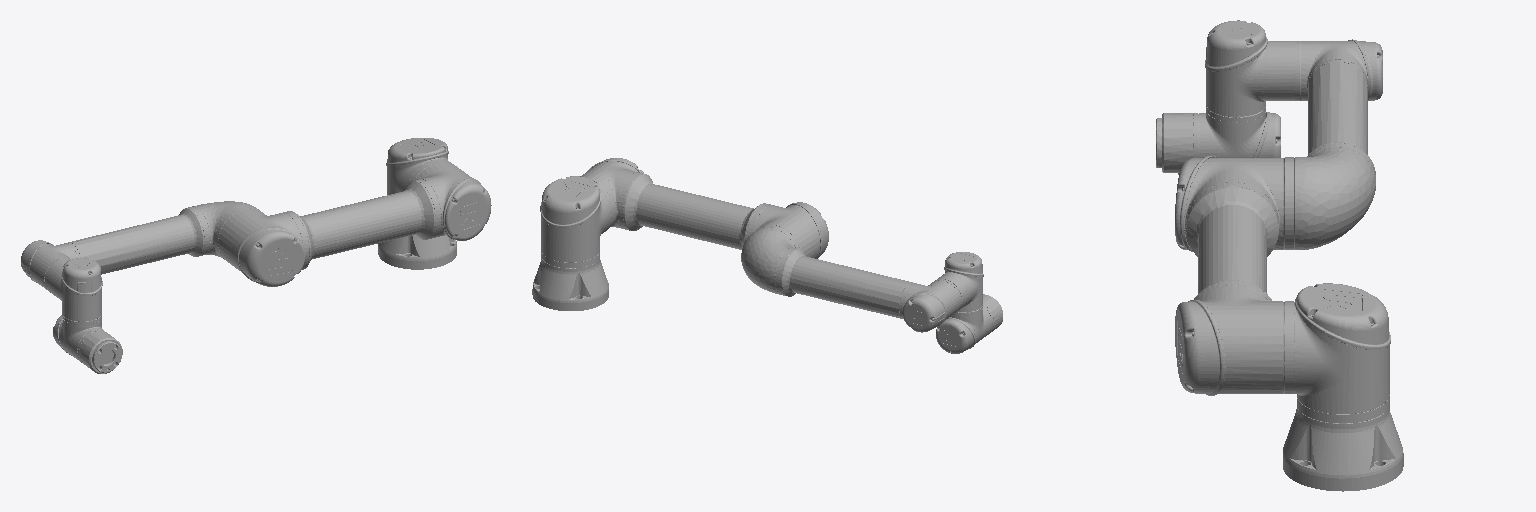
robot.urdf — ur5e:
<?xml version="1.0" ?>
<!-- =================================================================================== -->
<!-- |    This document was autogenerated by xacro from ur5e.xacro                     | -->
<!-- |    EDITING THIS FILE BY HAND IS NOT RECOMMENDED                                 | -->
<!-- =================================================================================== -->
<robot name="ur5e" xmlns:xacro="http://ros.org/wiki/xacro">
  <gazebo>
    <plugin filename="libgazebo_ros_control.so" name="ros_control">
      <legacyModeNS>true</legacyModeNS>
      <!--robotNamespace>/</robotNamespace-->
      <!--robotSimType>gazebo_ros_control/DefaultRobotHWSim</robotSimType-->
    </plugin>
    <!--
    <plugin name="gazebo_ros_power_monitor_controller" filename="libgazebo_ros_power_monitor.so">
      <alwaysOn>true</alwaysOn>
      <updateRate>1.0</updateRate>
      <timeout>5</timeout>
      <powerStateTopic>power_state</powerStateTopic>
      <powerStateRate>10.0</powerStateRate>
      <fullChargeCapacity>87.78</fullChargeCapacity>     
      <dischargeRate>-474</dischargeRate>
      <chargeRate>525</chargeRate>
      <dischargeVoltage>15.52</dischargeVoltage>
      <chargeVoltage>16.41</chargeVoltage>
    </plugin>
-->
  </gazebo>
  <!--property name="shoulder_height" value="0.089159" /-->
  <!--property name="shoulder_offset" value="0.13585" /-->
  <!-- shoulder_offset - elbow_offset + wrist_1_length = 0.10915 -->
  <!--property name="upper_arm_length" value="0.42500" /-->
  <!--property name="elbow_offset" value="0.1197" /-->
  <!-- CAD measured -->
  <!--property name="forearm_length" value="0.39225" /-->
  <!--property name="wrist_1_length" value="0.093" /-->
  <!-- CAD measured -->
  <!--property name="wrist_2_length" value="0.09465" /-->
  <!-- In CAD this distance is 0.930, but in the spec it is 0.09465 -->
  <!--property name="wrist_3_length" value="0.0823" /-->
  <!-- manually measured -->
  <link name="base_link">
    <visual>
      <geometry>
        <mesh filename="meshes/ur5e/visual/base.obj"/>
      </geometry>
      <material name="LightGrey">
        <color rgba="0.7 0.7 0.7 1.0"/>
      </material>
    </visual>
    <collision>
      <geometry>
        <mesh filename="meshes/ur5e/collision/base.stl"/>
      </geometry>
    </collision>
    <inertial>
      <mass value="4.0"/>
      <origin rpy="0 0 0" xyz="0.0 0.0 0.0"/>
      <inertia ixx="0.00443333156" ixy="0.0" ixz="0.0" iyy="0.00443333156" iyz="0.0" izz="0.0072"/>
    </inertial>
  </link>
  <joint name="shoulder_pan_joint" type="revolute">
    <parent link="base_link"/>
    <child link="shoulder_link"/>
    <origin rpy="0.0 0.0 0.0" xyz="0.0 0.0 0.163"/>
    <axis xyz="0 0 1"/>
    <limit effort="150.0" lower="-3.14159265359" upper="3.14159265359" velocity="3.14"/>
    <dynamics damping="0.0" friction="0.0"/>
  </joint>
  <link name="shoulder_link">
    <visual>
      <geometry>
        <mesh filename="meshes/ur5e/visual/shoulder.obj"/>
      </geometry>
      <material name="LightGrey">
        <color rgba="0.7 0.7 0.7 1.0"/>
      </material>
    </visual>
    <collision>
      <geometry>
        <mesh filename="meshes/ur5e/collision/shoulder.stl"/>
      </geometry>
    </collision>
    <inertial>
      <mass value="3.7"/>
      <origin rpy="0 0 0" xyz="0.0 0.0 0.0"/>
      <inertia ixx="0.010267495893" ixy="0.0" ixz="0.0" iyy="0.010267495893" iyz="0.0" izz="0.00666"/>
    </inertial>
  </link>
  <joint name="shoulder_lift_joint" type="revolute">
    <parent link="shoulder_link"/>
    <child link="upper_arm_link"/>
    <origin rpy="0.0 1.57079632679 0.0" xyz="0.0 0.138 0.0"/>
    <axis xyz="0 1 0"/>
    <limit effort="150.0" lower="-3.14159265359" upper="3.14159265359" velocity="3.14"/>
    <dynamics damping="0.0" friction="0.0"/>
  </joint>
  <link name="upper_arm_link">
    <visual>
      <geometry>
        <mesh filename="meshes/ur5e/visual/upperarm.obj"/>
      </geometry>
      <material name="LightGrey">
        <color rgba="0.7 0.7 0.7 1.0"/>
      </material>
    </visual>
    <collision>
      <geometry>
        <mesh filename="meshes/ur5e/collision/upperarm.stl"/>
      </geometry>
    </collision>
    <inertial>
      <mass value="8.393"/>
      <origin rpy="0 0 0" xyz="0.0 0.0 0.2125"/>
      <inertia ixx="0.133885781862" ixy="0.0" ixz="0.0" iyy="0.133885781862" iyz="0.0" izz="0.0151074"/>
    </inertial>
  </link>
  <joint name="elbow_joint" type="revolute">
    <parent link="upper_arm_link"/>
    <child link="forearm_link"/>
    <origin rpy="0.0 0.0 0.0" xyz="0.0 -0.131 0.425"/>
    <axis xyz="0 1 0"/>
    <limit effort="150.0" lower="-3.14159265359" upper="3.14159265359" velocity="3.14"/>
    <dynamics damping="0.0" friction="0.0"/>
  </joint>
  <link name="forearm_link">
    <visual>
      <geometry>
        <mesh filename="meshes/ur5e/visual/forearm.obj"/>
      </geometry>
      <material name="LightGrey">
        <color rgba="0.7 0.7 0.7 1.0"/>
      </material>
    </visual>
    <collision>
      <geometry>
        <mesh filename="meshes/ur5e/collision/forearm.stl"/>
      </geometry>
    </collision>
    <inertial>
      <mass value="2.275"/>
      <origin rpy="0 0 0" xyz="0.0 0.0 0.196"/>
      <inertia ixx="0.0311796208615" ixy="0.0" ixz="0.0" iyy="0.0311796208615" iyz="0.0" izz="0.004095"/>
    </inertial>
  </link>
  <joint name="wrist_1_joint" type="revolute">
    <parent link="forearm_link"/>
    <child link="wrist_1_link"/>
    <origin rpy="0.0 1.57079632679 0.0" xyz="0.0 0.0 0.392"/>
    <axis xyz="0 1 0"/>
    <limit effort="28.0" lower="-3.14159265359" upper="3.14159265359" velocity="6.28"/>
    <dynamics damping="0.0" friction="0.0"/>
  </joint>
  <link name="wrist_1_link">
    <visual>
      <geometry>
        <mesh filename="meshes/ur5e/visual/wrist1.obj"/>
      </geometry>
      <material name="LightGrey">
        <color rgba="0.7 0.7 0.7 1.0"/>
      </material>
    </visual>
    <collision>
      <geometry>
        <mesh filename="meshes/ur5e/collision/wrist1.stl"/>
      </geometry>
    </collision>
    <inertial>
      <mass value="1.219"/>
      <origin rpy="0 0 0" xyz="0.0 0.127 0.0"/>
      <inertia ixx="0.00255989897604" ixy="0.0" ixz="0.0" iyy="0.00255989897604" iyz="0.0" izz="0.0021942"/>
    </inertial>
  </link>
  <joint name="wrist_2_joint" type="revolute">
    <parent link="wrist_1_link"/>
    <child link="wrist_2_link"/>
    <origin rpy="0.0 0.0 0.0" xyz="0.0 0.127 0.0"/>
    <axis xyz="0 0 1"/>
    <limit effort="28.0" lower="-3.14159265359" upper="3.14159265359" velocity="6.28"/>
    <dynamics damping="0.0" friction="0.0"/>
  </joint>
  <link name="wrist_2_link">
    <visual>
      <geometry>
        <mesh filename="meshes/ur5e/visual/wrist2.obj"/>
      </geometry>
      <material name="LightGrey">
        <color rgba="0.7 0.7 0.7 1.0"/>
      </material>
    </visual>
    <collision>
      <geometry>
        <mesh filename="meshes/ur5e/collision/wrist2.stl"/>
      </geometry>
    </collision>
    <inertial>
      <mass value="1.219"/>
      <origin rpy="0 0 0" xyz="0.0 0.0 0.1"/>
      <inertia ixx="0.00255989897604" ixy="0.0" ixz="0.0" iyy="0.00255989897604" iyz="0.0" izz="0.0021942"/>
    </inertial>
  </link>
  <joint name="wrist_3_joint" type="revolute">
    <parent link="wrist_2_link"/>
    <child link="wrist_3_link"/>
    <origin rpy="0.0 0.0 0.0" xyz="0.0 0.0 0.1"/>
    <axis xyz="0 1 0"/>
    <limit effort="28.0" lower="-3.14159265359" upper="3.14159265359" velocity="6.28"/>
    <dynamics damping="0.0" friction="0.0"/>
  </joint>
  <link name="wrist_3_link">
    <visual>
      <geometry>
        <mesh filename="meshes/ur5e/visual/wrist3.obj"/>
      </geometry>
      <material name="LightGrey">
        <color rgba="0.7 0.7 0.7 1.0"/>
      </material>
    </visual>
    <collision>
      <geometry>
        <mesh filename="meshes/ur5e/collision/wrist3.stl"/>
      </geometry>
    </collision>
    <inertial>
      <mass value="0.1879"/>
      <origin rpy="1.57079632679 0 0" xyz="0.0 0.0771 0.0"/>
      <inertia ixx="9.89041005217e-05" ixy="0.0" ixz="0.0" iyy="9.89041005217e-05" iyz="0.0" izz="0.0001321171875"/>
    </inertial>
  </link>
  <joint name="ee_fixed_joint" type="fixed">
    <parent link="wrist_3_link"/>
    <child link="ee_link"/>
    <origin rpy="0.0 0.0 1.57079632679" xyz="0.0 0.1 0.0"/>
  </joint>
  <link name="ee_link">
    <collision>
      <geometry>
        <box size="0.01 0.01 0.01"/>
      </geometry>
      <origin rpy="0 0 0" xyz="-0.01 0 0"/>
    </collision>
    <inertial>
      <mass value="0"/>
      <origin rpy="0 0 0" xyz="0.0 0.0 0.0"/>
      <inertia ixx="0.0" ixy="0.0" ixz="0.0" iyy="0.0" iyz="0.0" izz="0.0"/>
    </inertial>
  </link>
  <transmission name="shoulder_pan_trans">
    <type>transmission_interface/SimpleTransmission</type>
    <joint name="shoulder_pan_joint">
      <hardwareInterface>hardware_interface/PositionJointInterface</hardwareInterface>
    </joint>
    <actuator name="shoulder_pan_motor">
      <mechanicalReduction>1</mechanicalReduction>
    </actuator>
  </transmission>
  <transmission name="shoulder_lift_trans">
    <type>transmission_interface/SimpleTransmission</type>
    <joint name="shoulder_lift_joint">
      <hardwareInterface>hardware_interface/PositionJointInterface</hardwareInterface>
    </joint>
    <actuator name="shoulder_lift_motor">
      <mechanicalReduction>1</mechanicalReduction>
    </actuator>
  </transmission>
  <transmission name="elbow_trans">
    <type>transmission_interface/SimpleTransmission</type>
    <joint name="elbow_joint">
      <hardwareInterface>hardware_interface/PositionJointInterface</hardwareInterface>
    </joint>
    <actuator name="elbow_motor">
      <mechanicalReduction>1</mechanicalReduction>
    </actuator>
  </transmission>
  <transmission name="wrist_1_trans">
    <type>transmission_interface/SimpleTransmission</type>
    <joint name="wrist_1_joint">
      <hardwareInterface>hardware_interface/PositionJointInterface</hardwareInterface>
    </joint>
    <actuator name="wrist_1_motor">
      <mechanicalReduction>1</mechanicalReduction>
    </actuator>
  </transmission>
  <transmission name="wrist_2_trans">
    <type>transmission_interface/SimpleTransmission</type>
    <joint name="wrist_2_joint">
      <hardwareInterface>hardware_interface/PositionJointInterface</hardwareInterface>
    </joint>
    <actuator name="wrist_2_motor">
      <mechanicalReduction>1</mechanicalReduction>
    </actuator>
  </transmission>
  <transmission name="wrist_3_trans">
    <type>transmission_interface/SimpleTransmission</type>
    <joint name="wrist_3_joint">
      <hardwareInterface>hardware_interface/PositionJointInterface</hardwareInterface>
    </joint>
    <actuator name="wrist_3_motor">
      <mechanicalReduction>1</mechanicalReduction>
    </actuator>
  </transmission>
  <gazebo reference="shoulder_link">
    <selfCollide>true</selfCollide>
  </gazebo>
  <gazebo reference="upper_arm_link">
    <selfCollide>true</selfCollide>
  </gazebo>
  <gazebo reference="forearm_link">
    <selfCollide>true</selfCollide>
  </gazebo>
  <gazebo reference="wrist_1_link">
    <selfCollide>true</selfCollide>
  </gazebo>
  <gazebo reference="wrist_3_link">
    <selfCollide>true</selfCollide>
  </gazebo>
  <gazebo reference="wrist_2_link">
    <selfCollide>true</selfCollide>
  </gazebo>
  <gazebo reference="ee_link">
    <selfCollide>true</selfCollide>
  </gazebo>
  <!-- ROS base_link to UR 'Base' Coordinates transform -->
  <link name="base"/>
  <joint name="base-base_link_fixed_joint" type="fixed">
    <!-- NOTE: this rotation is only needed as long as base_link itself is
                 not corrected wrt the real robot (ie: rotated over 180
                 degrees)
      -->
    <origin rpy="0 0 -3.14159265359" xyz="0 0 0"/>
    <parent link="base"/>
    <child link="base_link"/>
  </joint>
  <!-- Frame coincident with all-zeros TCP on UR controller -->
  <link name="tool0">
    <inertial>
      <mass value="0"/>
      <origin rpy="0 0 0" xyz="0.0 0.0 0.0"/>
      <inertia ixx="0.0" ixy="0.0" ixz="0.0" iyy="0.0" iyz="0.0" izz="0.0"/>
    </inertial>
  </link>
  <joint name="wrist_3_link-tool0_fixed_joint" type="fixed">
    <origin rpy="-1.57079632679 0 0" xyz="0 0.1 0"/>
    <parent link="wrist_3_link"/>
    <child link="tool0"/>
  </joint>
  <link name="world"/>
  <joint name="world_joint" type="fixed">
    <parent link="world"/>
    <child link="base"/>
    <origin rpy="0.0 0.0 0.0" xyz="0.0 0.0 0.0"/>
  </joint>
  <link name="ee_tool">
    <inertial>
      <mass value="0"/>
      <origin rpy="0 0 0" xyz="0.0 0.0 0.0"/>
      <inertia ixx="0.0" ixy="0.0" ixz="0.0" iyy="0.0" iyz="0.0" izz="0.0"/>
    </inertial>
  </link>
  <joint name="ee_tool_joint" type="fixed">
    <parent link="tool0"/>
    <child link="ee_tool"/>
    <origin rpy="0.0 0.0 0.0" xyz=" 0.00 0.0 0.0"/>
  </joint>

  <link name="camera_link">
    <inertial>
      <mass value="0"/>
      <origin rpy="0 0 0" xyz="0.0 0.0 0.01"/>
      <inertia ixx="0.0" ixy="0.0" ixz="0.0" iyy="0.0" iyz="0.0" izz="0.0"/>
    </inertial>
  </link>
  <joint name="camera_link_joint" type="fixed">
    <parent link="tool0"/>
    <child link="camera_link"/>
    <origin rpy="-0.1 0.0 0.0" xyz="0.00 -0.08 0.0"/>
  </joint>
</robot>

--- What the picture shows (computed from the rendered views, not written in the file) ---
3 views of the same robot in one strip: view 1: azimuth 30°, elevation 25°; view 2: azimuth 150°, elevation 25°; view 3: azimuth 270°, elevation 25° (orthographic).
Robot: ur5e — 13 links, 12 joints (6 revolute, 6 fixed); root link world; default pose: every joint at zero.
Visible links, largest first — view 1: upper_arm_link, forearm_link, wrist_1_link, shoulder_link, base_link, wrist_3_link, wrist_2_link; view 2: upper_arm_link, forearm_link, shoulder_link, base_link, wrist_1_link, wrist_2_link; view 3: upper_arm_link, forearm_link, shoulder_link, base_link, wrist_1_link, wrist_2_link, wrist_3_link.
Link boxes in pixels (<box>): upper_arm_link: <box>215,162,491,286</box>; forearm_link: <box>21,201,255,292</box>; wrist_1_link: <box>46,258,102,324</box>; shoulder_link: <box>386,138,450,194</box>; base_link: <box>378,235,456,269</box>; wrist_3_link: <box>79,331,122,373</box>; wrist_2_link: <box>53,315,104,362</box>; upper_arm_link: <box>580,158,828,258</box>; forearm_link: <box>741,227,961,332</box>; shoulder_link: <box>540,176,614,261</box>; base_link: <box>532,251,608,310</box>; wrist_1_link: <box>937,252,983,315</box>; wrist_2_link: <box>936,304,993,353</box>; upper_arm_link: <box>1175,156,1294,395</box>; forearm_link: <box>1295,39,1382,249</box>; shoulder_link: <box>1283,283,1390,413</box>; base_link: <box>1283,394,1403,491</box>; wrist_1_link: <box>1205,20,1294,121</box>; wrist_2_link: <box>1193,111,1280,157</box>; wrist_3_link: <box>1156,113,1192,174</box>.
Bounding box of the posed robot: 0.9318 × 0.3085 × 0.2345 m (x, y, z).
7 mesh visuals loaded from 7 distinct referenced files (7 OBJ).